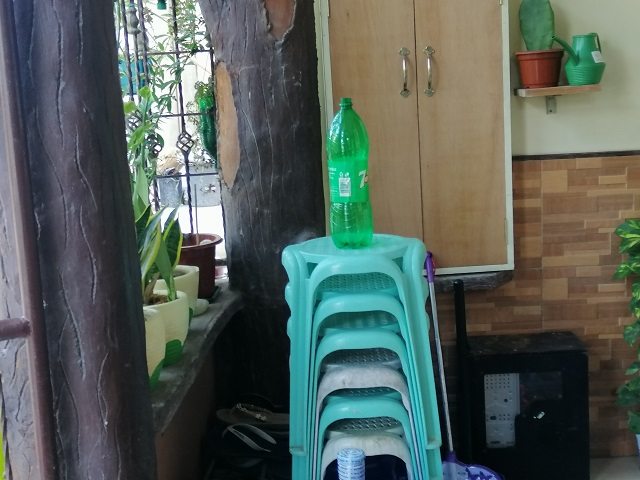bottle: (327, 98, 372, 249)
plant: (130, 169, 166, 389), (519, 1, 560, 87)
